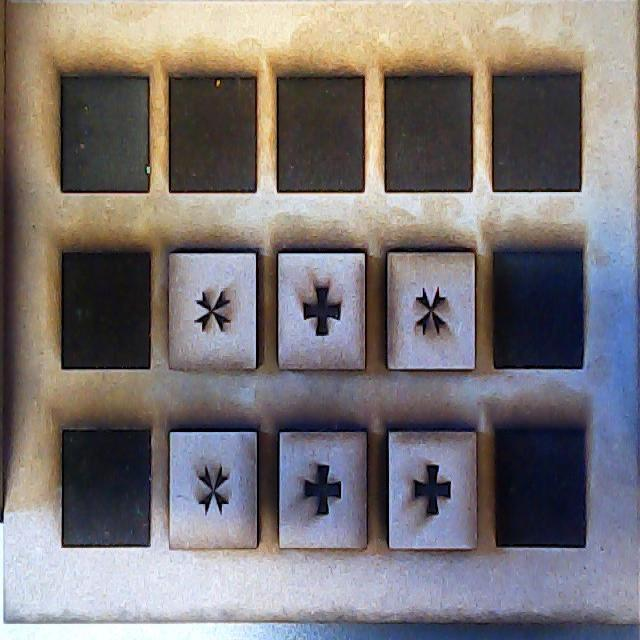maltese: (165, 252, 258, 372), (390, 250, 477, 374), (171, 431, 260, 548)
temple: (278, 430, 370, 550), (388, 429, 476, 552), (279, 254, 366, 368)
